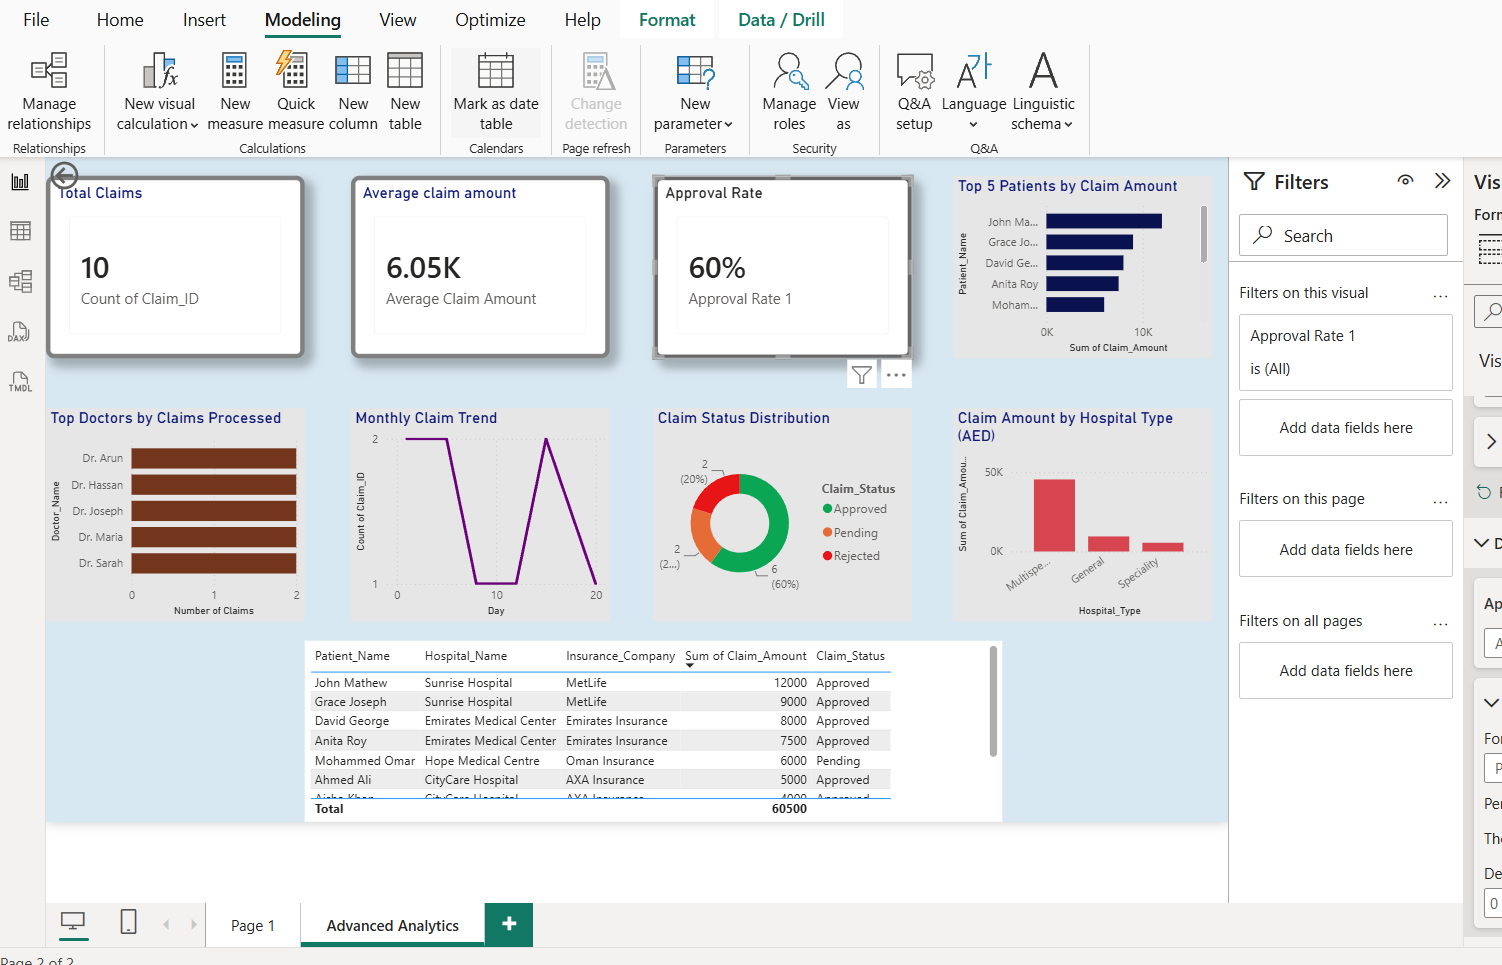

The page's visual inventory and layout, read from the dashboard file:
{"tool":"powerbi","page":{"name":"Advanced Analytics","canvas":[1280,720],"ordinal":1},"visuals":[{"type":"clusteredBarChart","title":"Top Doctors by Claims Processed","fields":{"Category":["Doctors.Doctor_Name"],"Y":["CountNonNull(Claims.Claim_ID)"]},"box":[0,272,280.1,230.1],"z":0},{"type":"lineChart","title":"Monthly Claim Trend","fields":{"Category":["Claims.Claim_Date.Variation.Date Hierarchy.Year","Claims.Claim_Date.Variation.Date Hierarchy.Quarter","Claims.Claim_Date.Variation.Date Hierarchy.Month","Claims.Claim_Date.Variation.Date Hierarchy.Day"],"Y":["CountNonNull(Claims.Claim_ID)"]},"box":[330.2,272,280.1,230.1],"z":1000},{"type":"donutChart","title":"Claim Status Distribution","fields":{"Category":["Claims.Claim_Status"],"Y":["CountNonNull(Claims.Claim_ID)"]},"box":[657.7,272,280.1,230.1],"z":2000},{"type":"cardVisual","title":"Total Claims","fields":{"Data":["CountNonNull(Claims.Claim_ID)"]},"box":[0,20.3,280.1,197.6],"z":3000},{"type":"clusteredColumnChart","title":"Claim Amount by Hospital Type (AED)","fields":{"Category":["Hospitals.Hospital_Type"],"Y":["Sum(Claims.Claim_Amount)"]},"box":[982.5,272,280.1,230.1],"z":4000},{"type":"clusteredBarChart","title":"Top 5 Patients by Claim Amount","fields":{"Category":["Patients.Patient_Name"],"Y":["Sum(Claims.Claim_Amount)"]},"box":[982.5,20.3,280.1,197.6],"z":5000},{"type":"tableEx","fields":{"Values":["Patients.Patient_Name","Hospitals.Hospital_Name","Insurance_Policies.Insurance_Company","Sum(Claims.Claim_Amount)","Claims.Claim_Status"]},"box":[280.1,523.7,755.2,196.2],"z":6000},{"type":"actionButton","box":[0,0,100,40],"z":7000},{"type":"cardVisual","title":"Average claim amount","fields":{"Data":["Claims.Average Claim Amount"]},"box":[330.2,20.3,280.1,197.6],"z":9000},{"type":"cardVisual","title":"Approval Rate","fields":{"Data":["Claims.Approval Rate 1"]},"box":[658,20,280,198],"z":9001}]}

Visuals, with their boxes on the page's 1280x720 design canvas (x1, y1, x2, y2). These are canvas units, not pixel positions in the 1502x965 screenshot, which may show the page scaled, cropped or inside an application window:
"Top Doctors by Claims Processed" clusteredBarChart: [x1=0, y1=272, x2=280, y2=502]
"Monthly Claim Trend" lineChart: [x1=330, y1=272, x2=610, y2=502]
"Claim Status Distribution" donutChart: [x1=658, y1=272, x2=938, y2=502]
"Total Claims" cardVisual: [x1=0, y1=20, x2=280, y2=218]
"Claim Amount by Hospital Type (AED)" clusteredColumnChart: [x1=982, y1=272, x2=1263, y2=502]
"Top 5 Patients by Claim Amount" clusteredBarChart: [x1=982, y1=20, x2=1263, y2=218]
tableEx - Patients.Patient_Name x Hospitals.Hospital_Name: [x1=280, y1=524, x2=1035, y2=720]
actionButton: [x1=0, y1=0, x2=100, y2=40]
"Average claim amount" cardVisual: [x1=330, y1=20, x2=610, y2=218]
"Approval Rate" cardVisual: [x1=658, y1=20, x2=938, y2=218]
